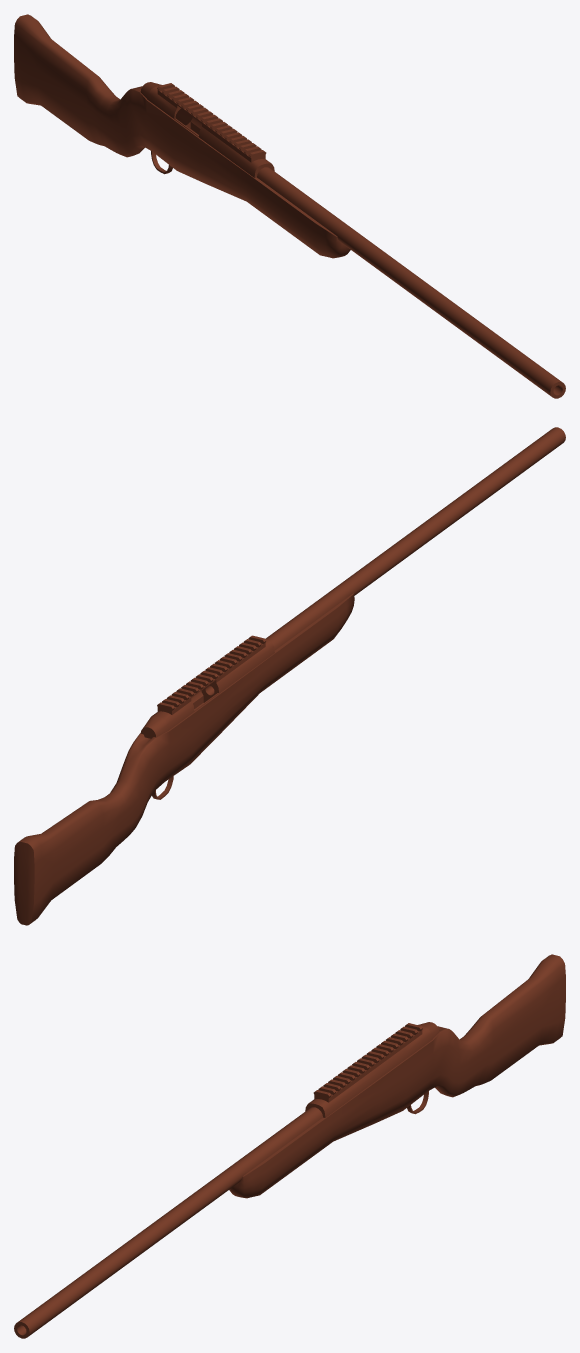
Rendered from SniperBody.obj.
The picture shows the model from 3 angles, top to bottom: view 1: azimuth 30°, elevation 25°; view 2: azimuth 150°, elevation 25°; view 3: azimuth 330°, elevation 25°; orthographic projection.
Visible parts, largest first — view 1: Body; view 2: Body; view 3: Body.
Boxes of the visible parts, box(x1,y1,x2,y2) form: Body: box(14, 14, 565, 398); Body: box(14, 427, 565, 925); Body: box(14, 954, 565, 1338).
Bounding box in the file's own units: 0.0298 × 0.1417 × 1.18.
